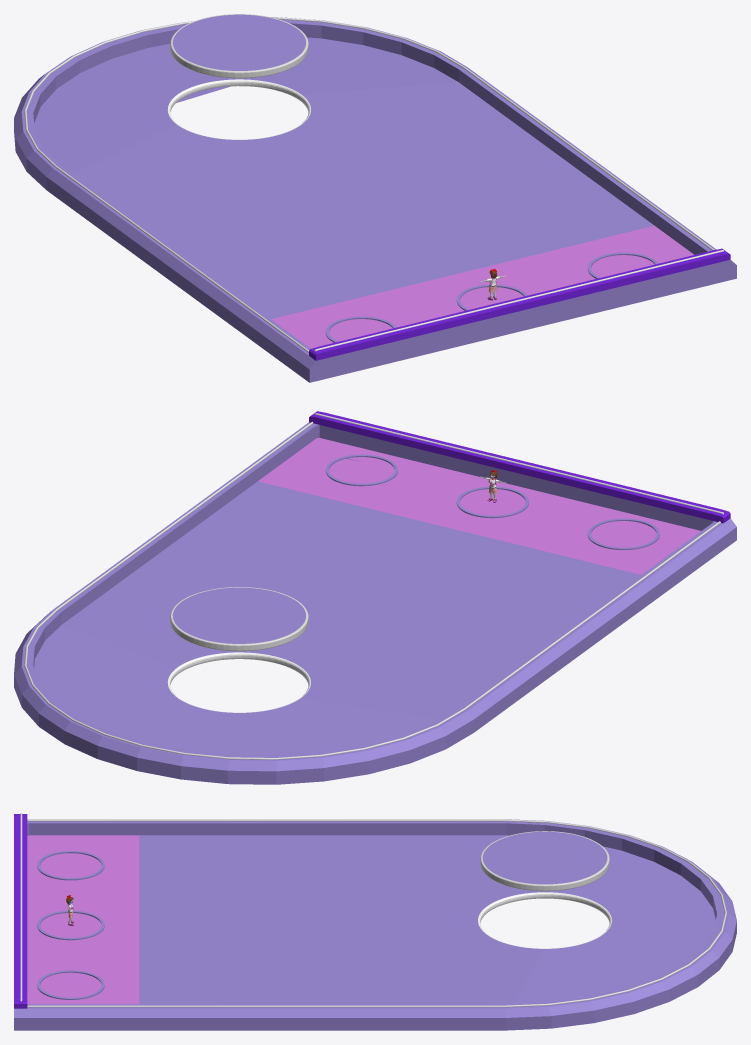
Rendered from Platform_Deneme2 1.fbx.
3 views of the same model, one above another, from view 1: azimuth 30°, elevation 25°; view 2: azimuth 150°, elevation 25°; view 3: azimuth 270°, elevation 25° (orthographic). The views are drawn at different scales.
Parts seen in each view (by area): view 1: Base_Mesh, Base_Mesh_Hole, Circle; view 2: Base_Mesh, Base_Mesh_Hole, Circle; view 3: Base_Mesh, Base_Mesh_Hole, Circle.
Part boxes in pixels (box(x1,y1,x2,y2)): Base_Mesh: box(14, 17, 736, 382); Base_Mesh_Hole: box(170, 14, 308, 78); Circle: box(24, 17, 723, 352); Base_Mesh: box(14, 411, 736, 784); Base_Mesh_Hole: box(170, 587, 308, 651); Circle: box(24, 413, 723, 759); Base_Mesh: box(14, 814, 736, 1030); Base_Mesh_Hole: box(480, 831, 609, 891); Circle: box(20, 813, 726, 1007).
Size of the model in its own units: 2498 by 448 by 3913.
